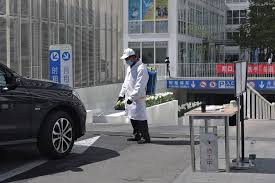mask: (123, 53, 140, 67)
